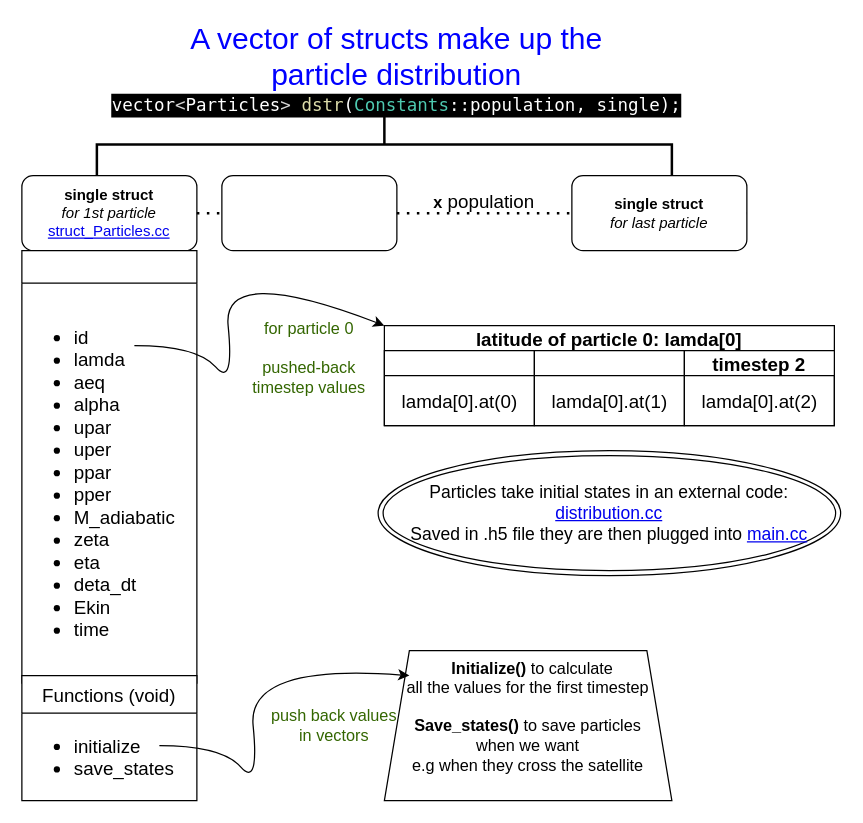
This 863x823 diagram has some shape labels left out. The box of each missing label's shape, as (x1, y1, x2, y2) in pixels:
Members (vectors): (21, 249, 197, 683)
single struct for 2nd particle: (221, 174, 397, 251)
timestep 0: (383, 349, 534, 426)
timestep 1: (533, 349, 684, 426)
